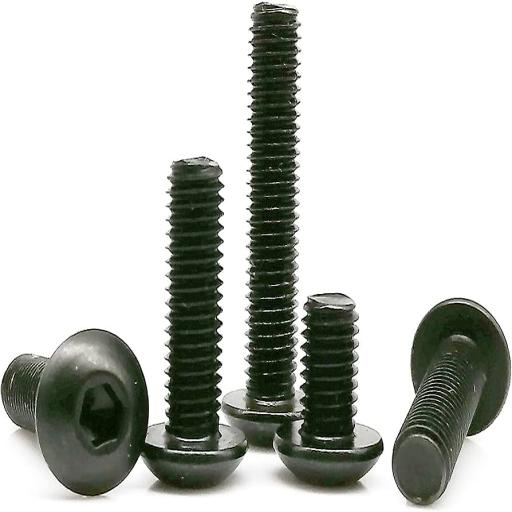Hex-Allen: (35, 326, 148, 497)
